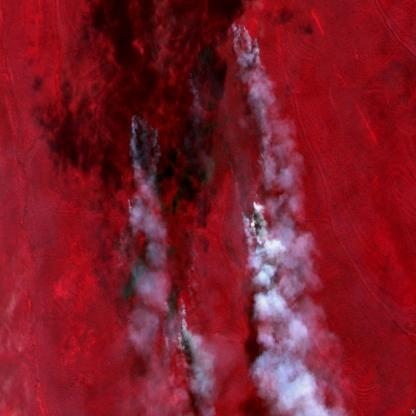fire: (113, 17, 268, 339)
